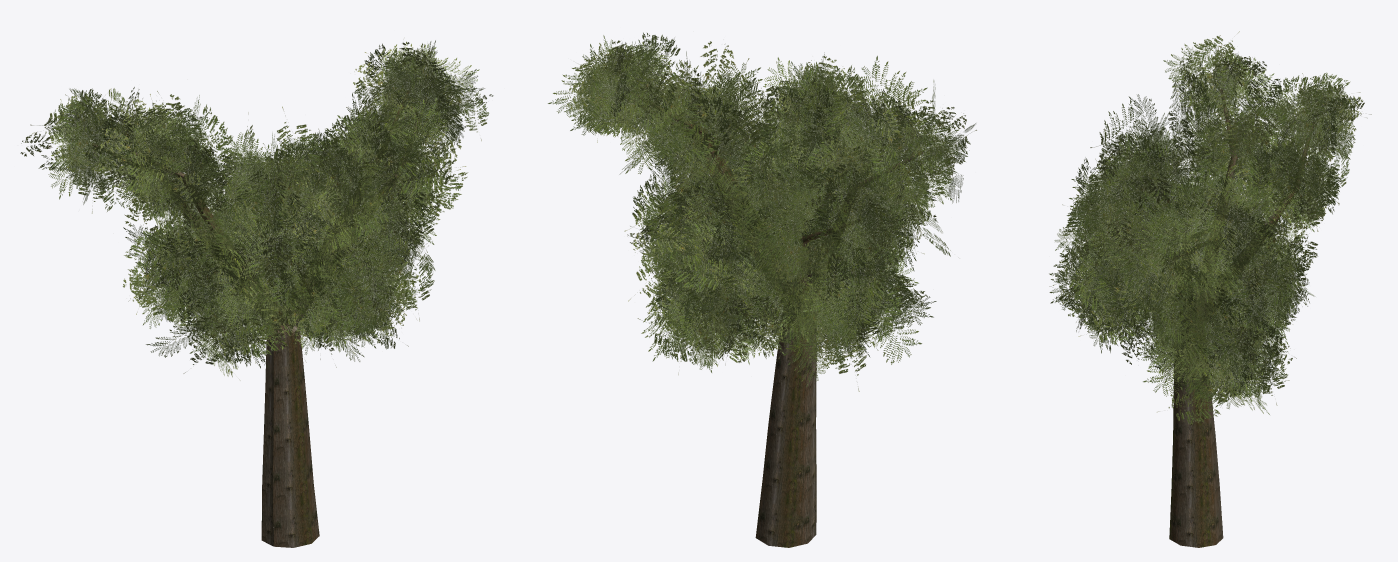
File: olive_1.glb
3 views of the same model, side by side, from view 1: azimuth 30°, elevation 25°; view 2: azimuth 150°, elevation 25°; view 3: azimuth 270°, elevation 25° (orthographic). The views are drawn at different scales.
Parts seen in each view (by area): view 1: olive; view 2: olive; view 3: olive.
Boxes of the visible parts, x1,y1,x2,y2 form: olive: (20, 40, 493, 547); olive: (548, 32, 976, 547); olive: (1049, 31, 1371, 547).
Size of the model in its own units: 6.66 by 7.6 by 5.35.
2 materials, 2 textured.
